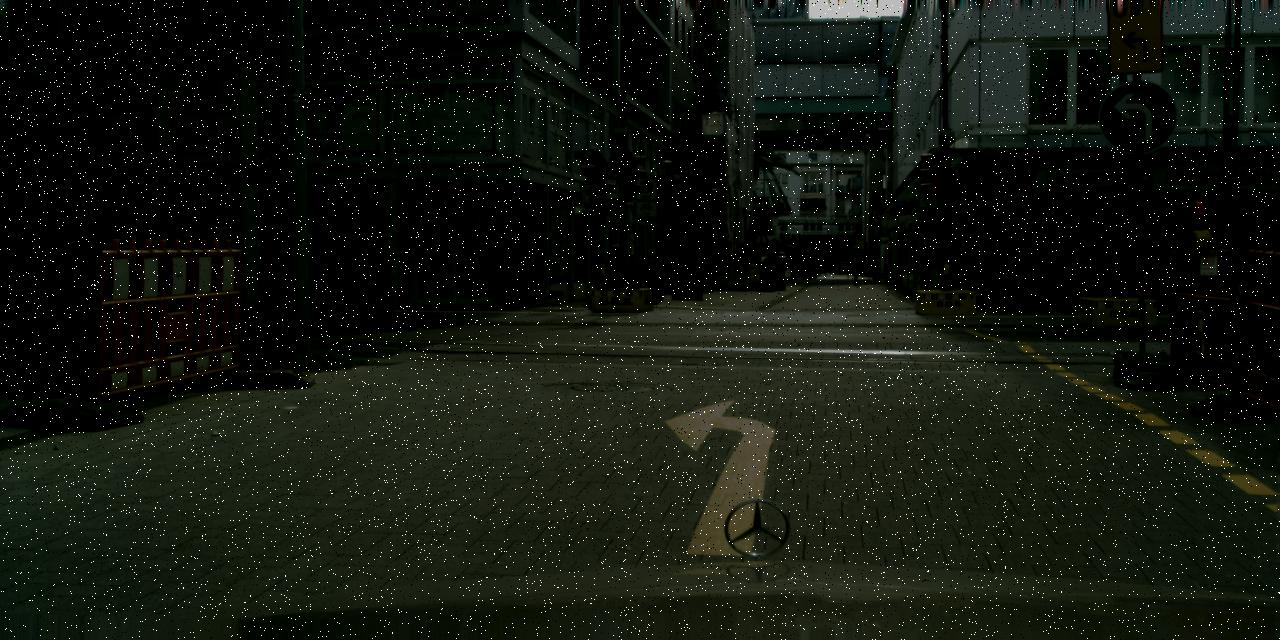ped: (849, 254, 862, 286), (827, 257, 833, 272), (819, 258, 825, 273)
